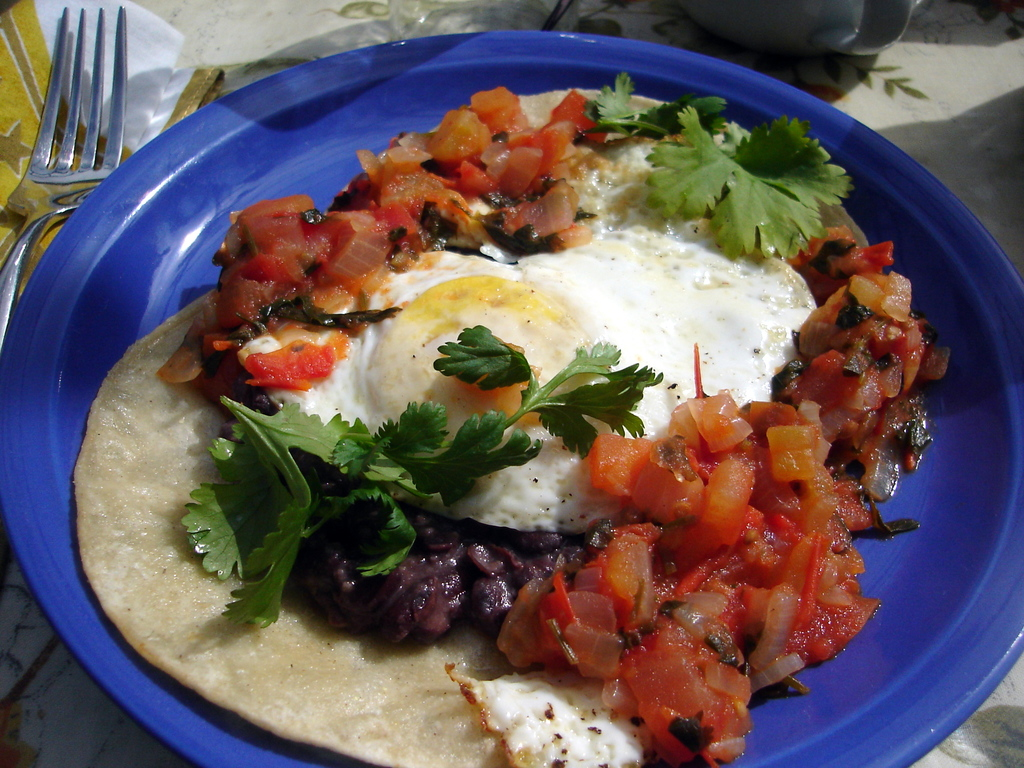taco: (129, 61, 967, 762)
